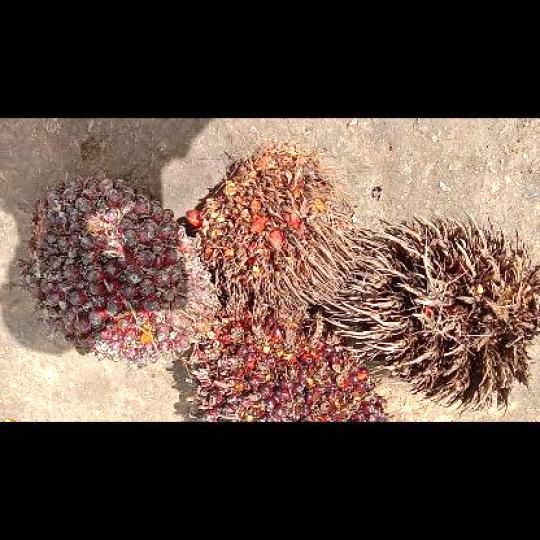kurang masak: (16, 170, 220, 370)
masak: (181, 310, 395, 420)
terlalu masak: (184, 136, 362, 316)
